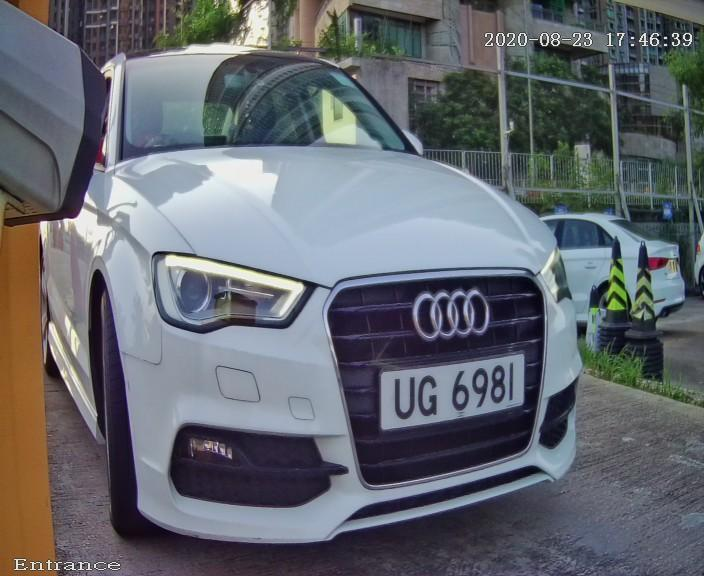Car: (23, 6, 639, 574)
License Plate: (352, 334, 551, 447)
